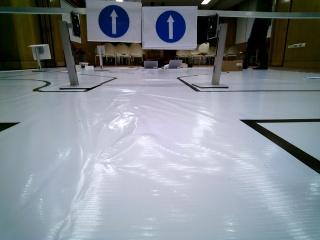straight: (141, 8, 198, 49), (86, 0, 140, 40)
